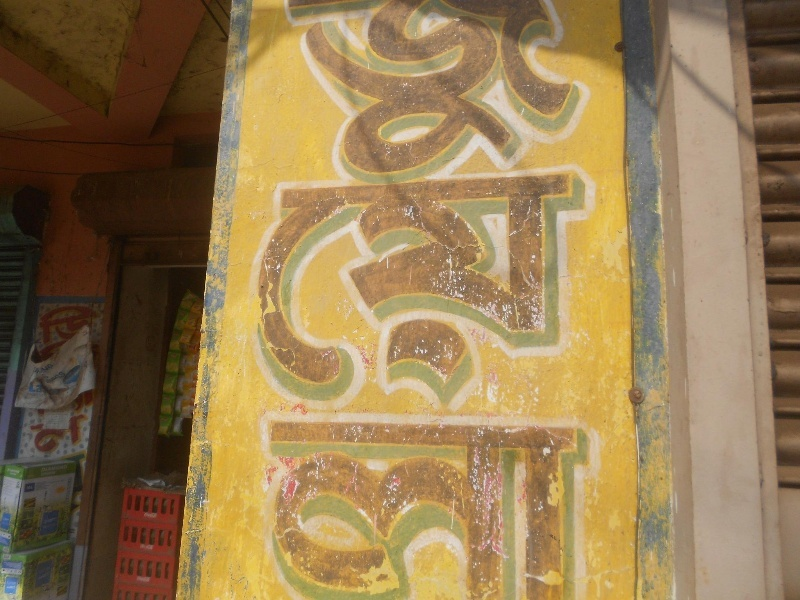text: (273, 1, 288, 600), (289, 1, 304, 600), (305, 1, 320, 600), (321, 1, 336, 600), (337, 1, 352, 600), (353, 1, 368, 600), (369, 1, 384, 600), (385, 1, 400, 600), (401, 1, 416, 600), (417, 1, 432, 600), (433, 1, 448, 600), (449, 1, 464, 600), (465, 1, 480, 600), (481, 1, 496, 600), (497, 1, 512, 600), (513, 1, 528, 600), (529, 1, 544, 600), (545, 1, 560, 600), (561, 1, 576, 600), (577, 1, 592, 600), (49, 301, 64, 454), (65, 301, 80, 454), (81, 301, 96, 454), (1, 454, 16, 599), (17, 454, 32, 599), (33, 454, 48, 599), (49, 454, 64, 599), (65, 454, 80, 599), (269, 1, 272, 600), (81, 454, 92, 599), (41, 301, 48, 454), (97, 301, 102, 454), (593, 1, 594, 600), (33, 380, 48, 398), (49, 380, 62, 398), (49, 370, 64, 384), (34, 363, 48, 375), (49, 464, 64, 473), (49, 363, 55, 375), (41, 464, 48, 473), (44, 370, 48, 384), (29, 380, 32, 398), (65, 464, 69, 473), (65, 370, 67, 384)
